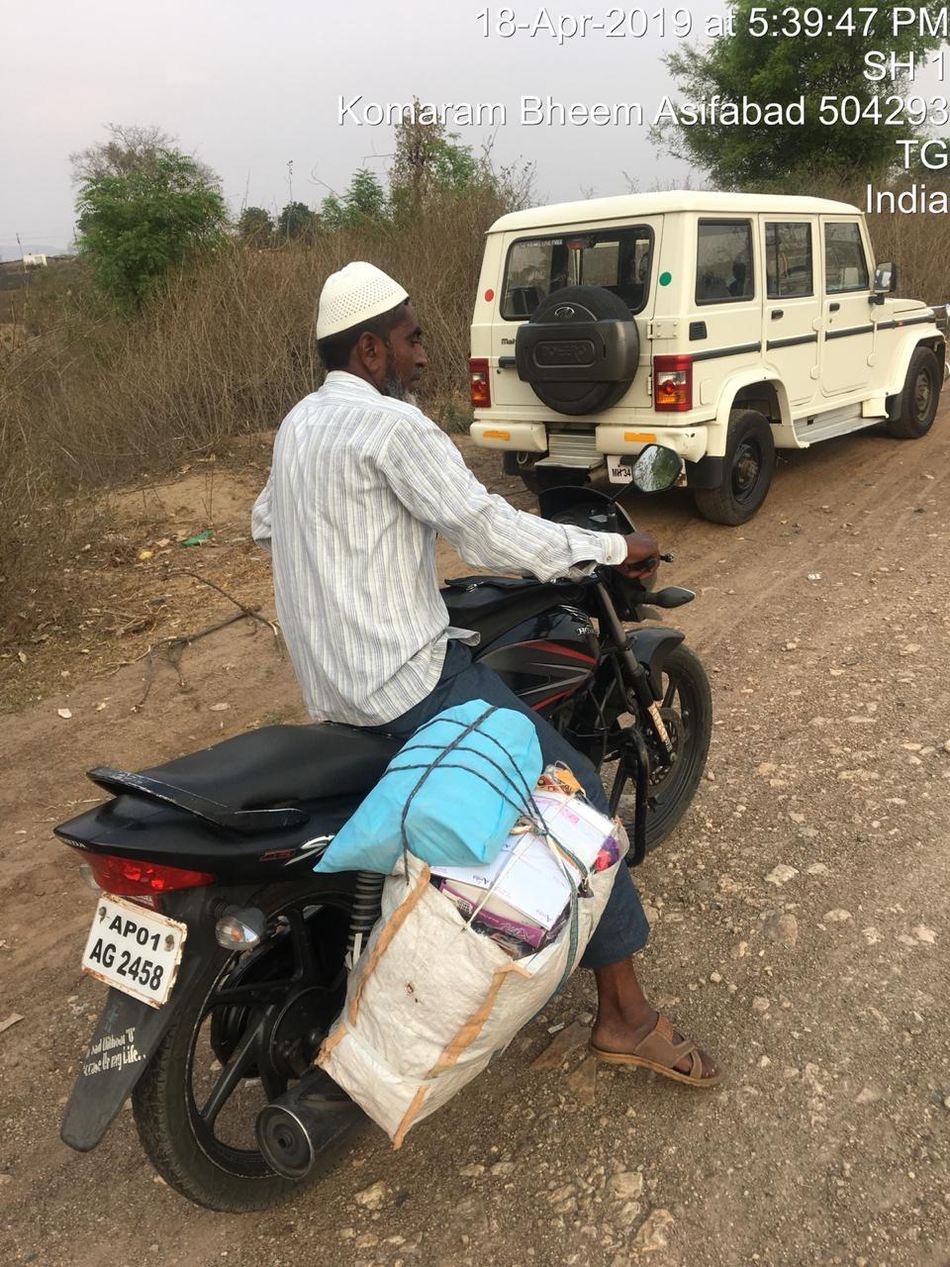plate: (58, 882, 216, 1021)
